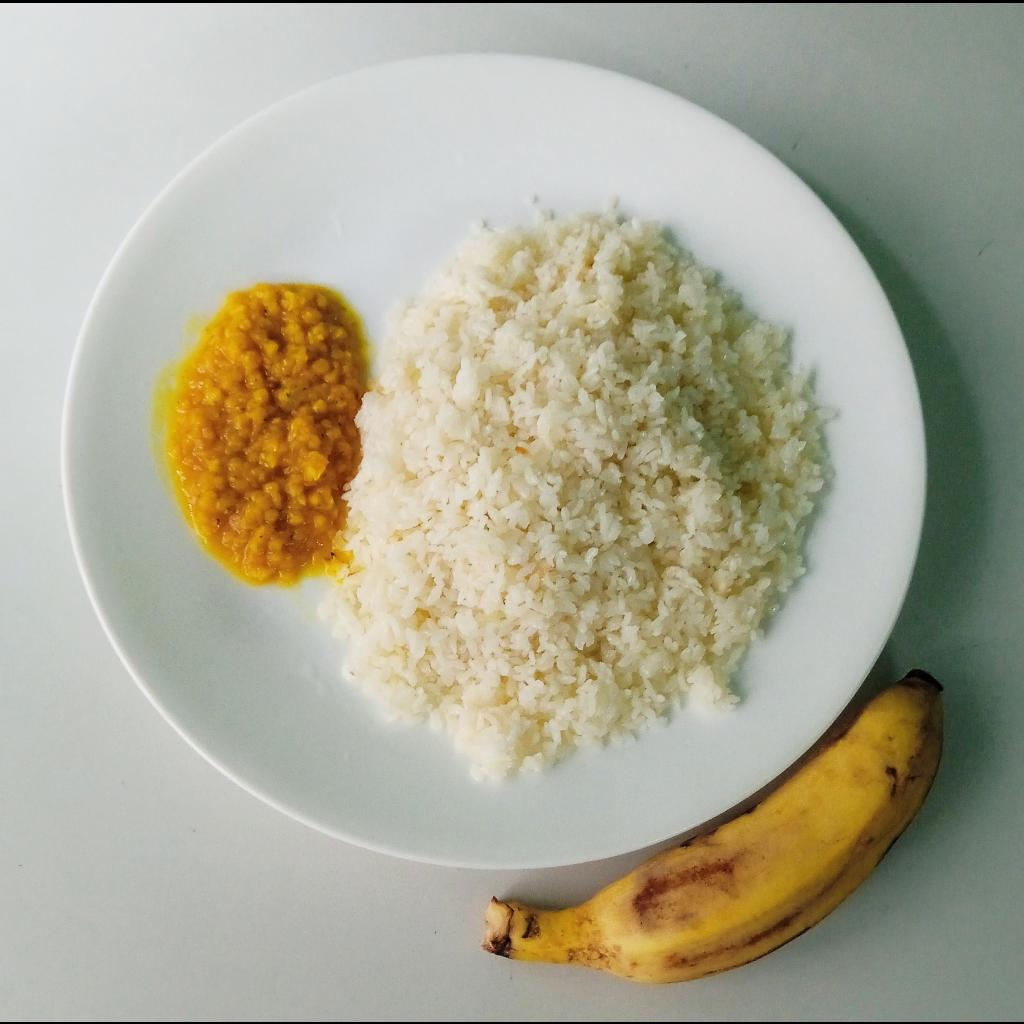banana: (482, 665, 947, 985)
daal: (170, 280, 366, 584)
rice: (333, 194, 837, 781)
